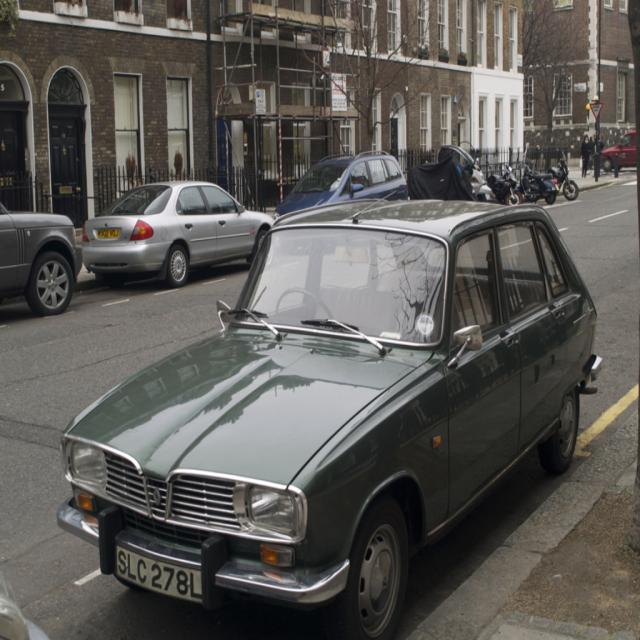car: (56, 186, 603, 637)
